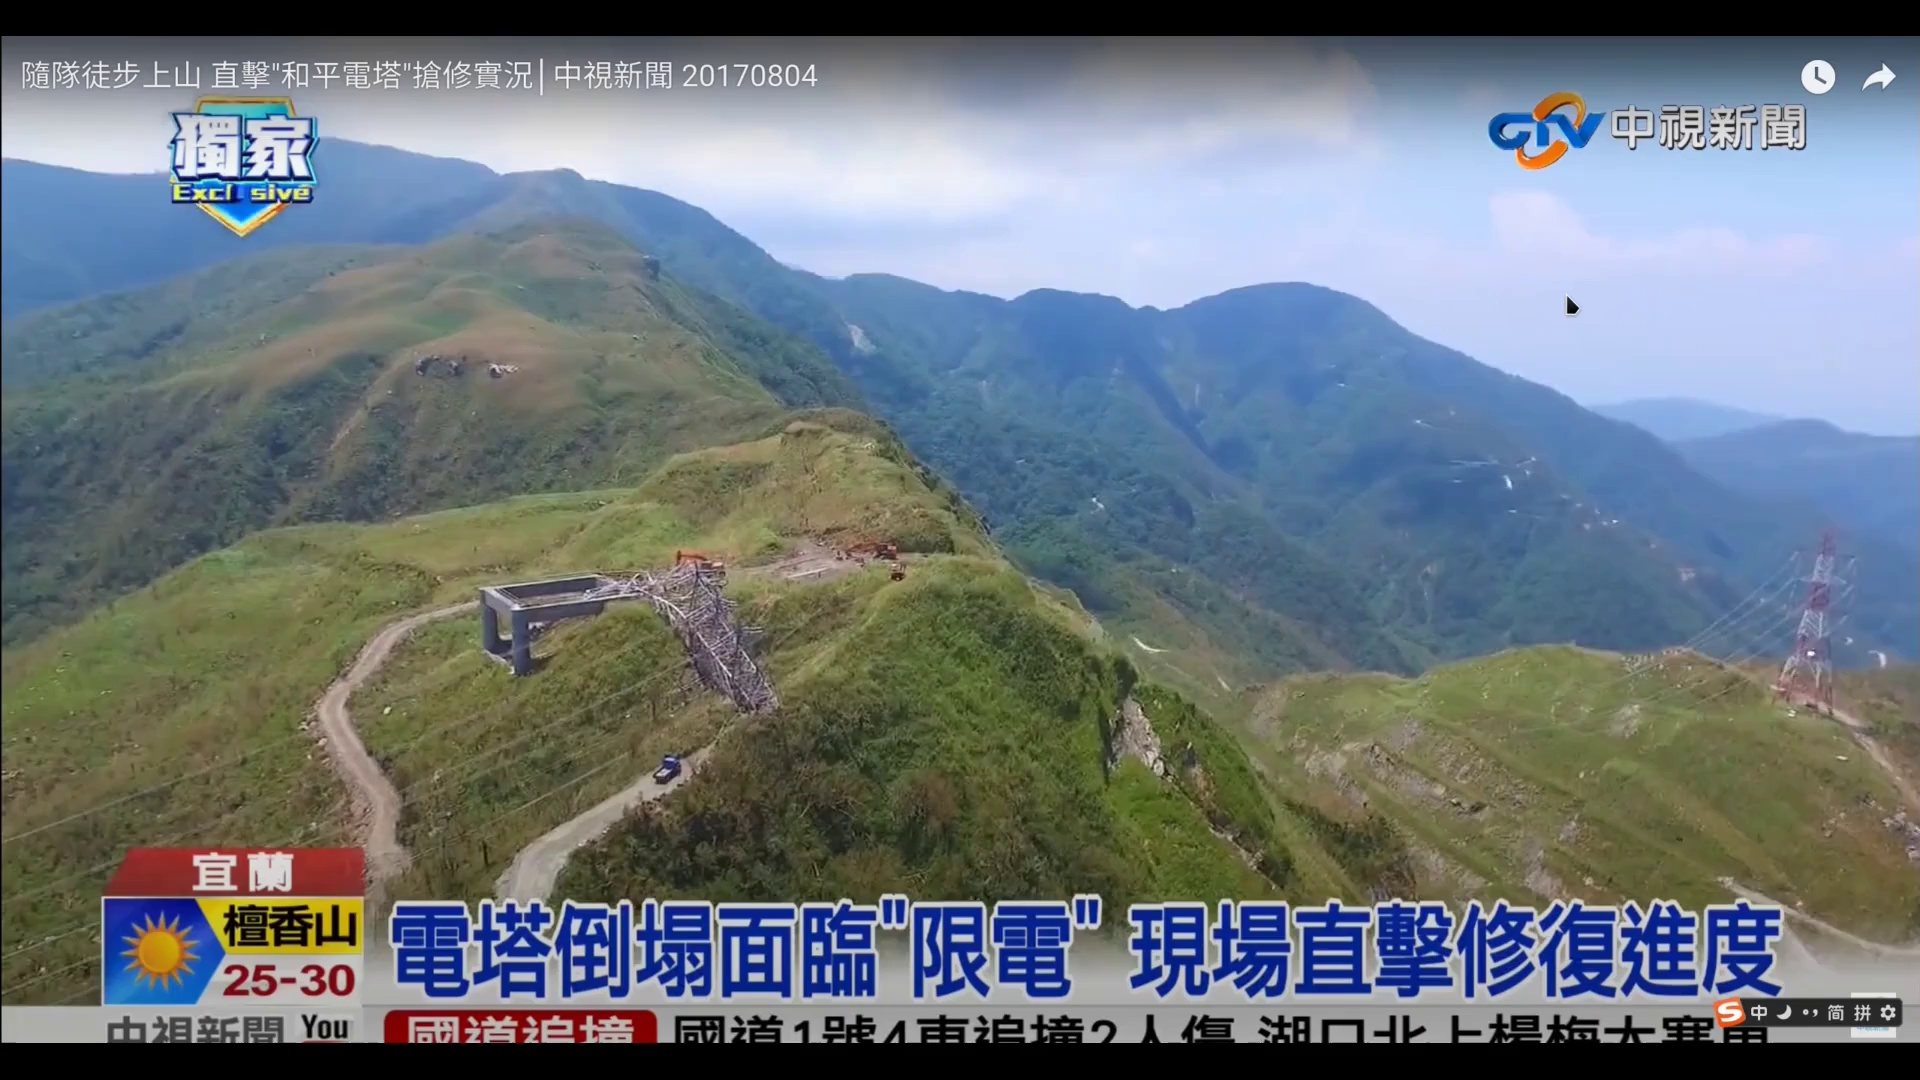tower_down: (636, 553, 785, 721)
